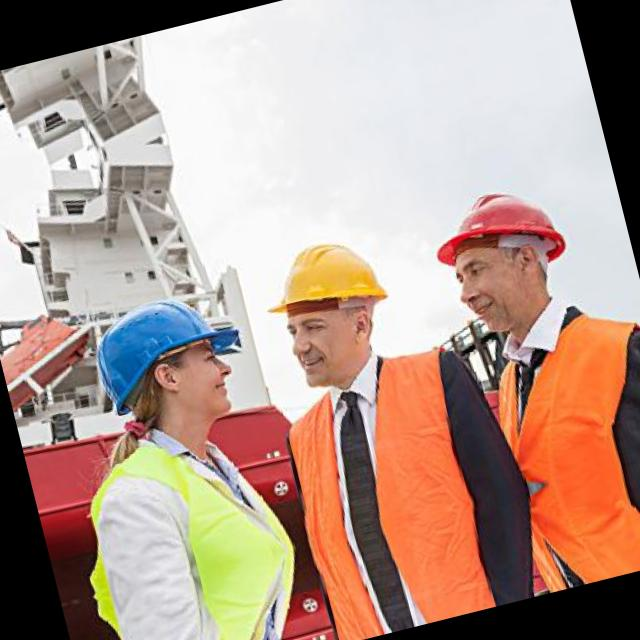helmet: (72, 258, 266, 470), (245, 207, 426, 406), (410, 154, 588, 356)
